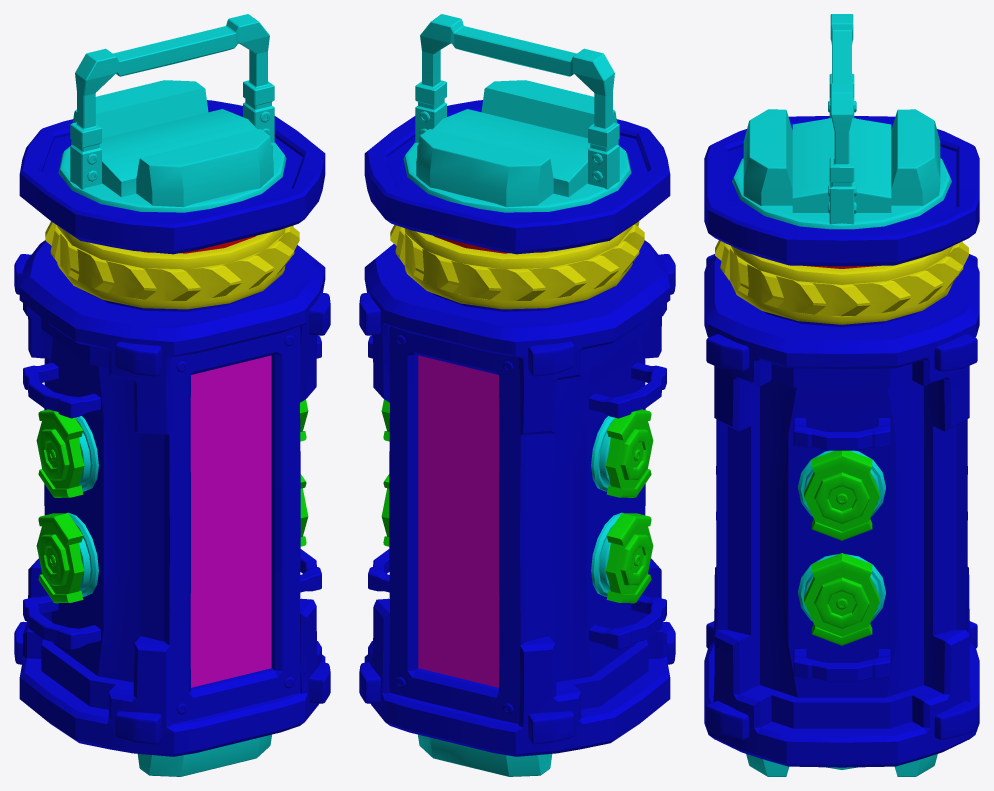
The model's file is SKELETAL_Recolteur1.fbx.
The picture shows the model from 3 angles, left to right: view 1: azimuth 30°, elevation 25°; view 2: azimuth 150°, elevation 25°; view 3: azimuth 270°, elevation 25°; orthographic projection.
Parts seen in each view (by area): view 1: SKELETAL_Recolteur1; view 2: SKELETAL_Recolteur1; view 3: SKELETAL_Recolteur1.
Part boxes in pixels (left/top/right/bottom): SKELETAL_Recolteur1: left=14, top=14, right=330, bottom=776; SKELETAL_Recolteur1: left=359, top=14, right=675, bottom=776; SKELETAL_Recolteur1: left=704, top=14, right=979, bottom=776.
Size of the model in its own units: 2.71 by 6.62 by 2.38.
